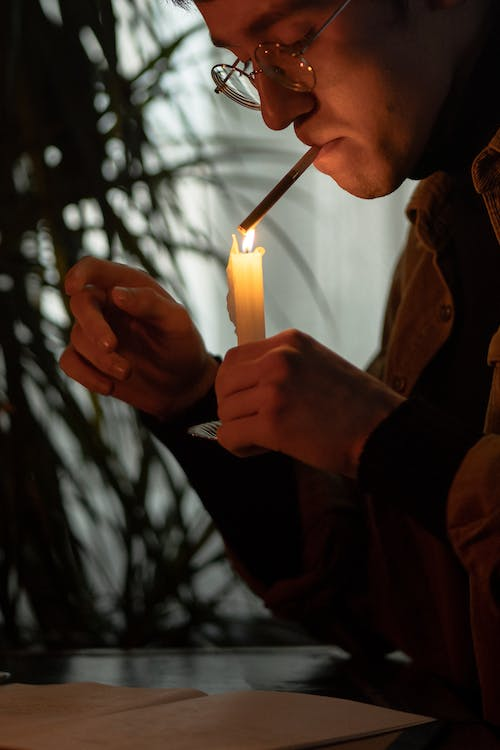cigarette: (233, 139, 323, 237)
